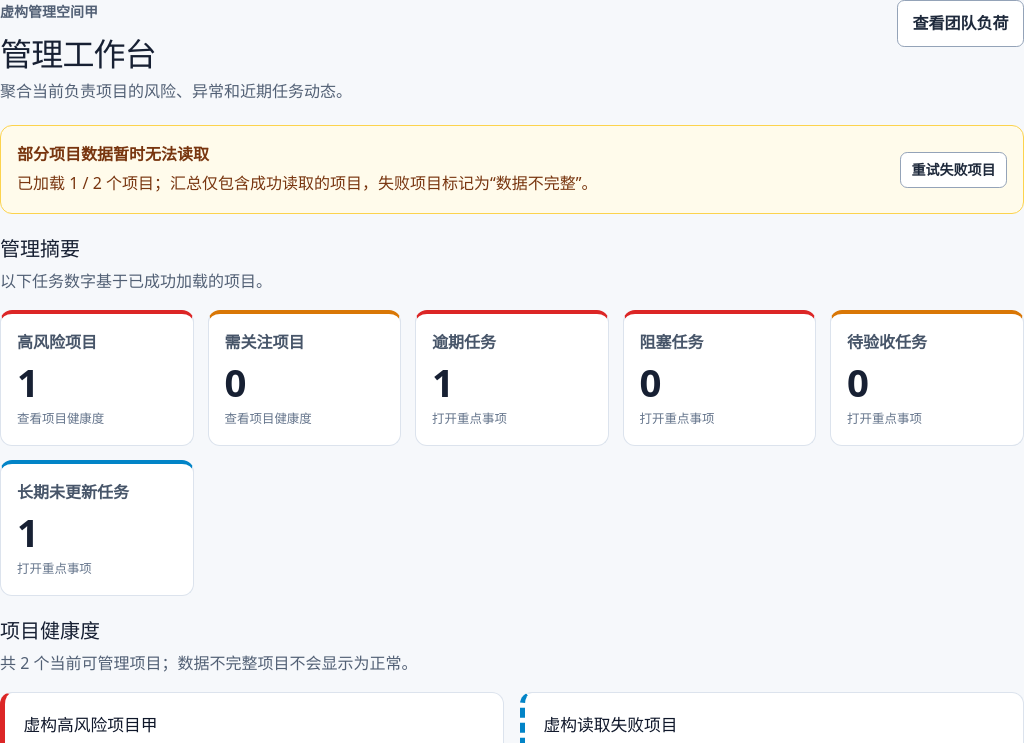
Test: 管理者工作台页面 › partial failure 不清空成功项目，失败项目 unknown，重试仅恢复失败项目
Expected: the text "部分项目数据暂时无法读取" is shown, left=17, top=143, right=209, bottom=165
Expected: the text "已加载 1 / 2 个项目；汇总仅包含成功读取的项目，失败项目标记为“数据不完整”。" is shown, left=17, top=171, right=598, bottom=197
Click the button "重试失败项目". click: (954,170)
box: left=900, top=152, right=1007, bottom=188
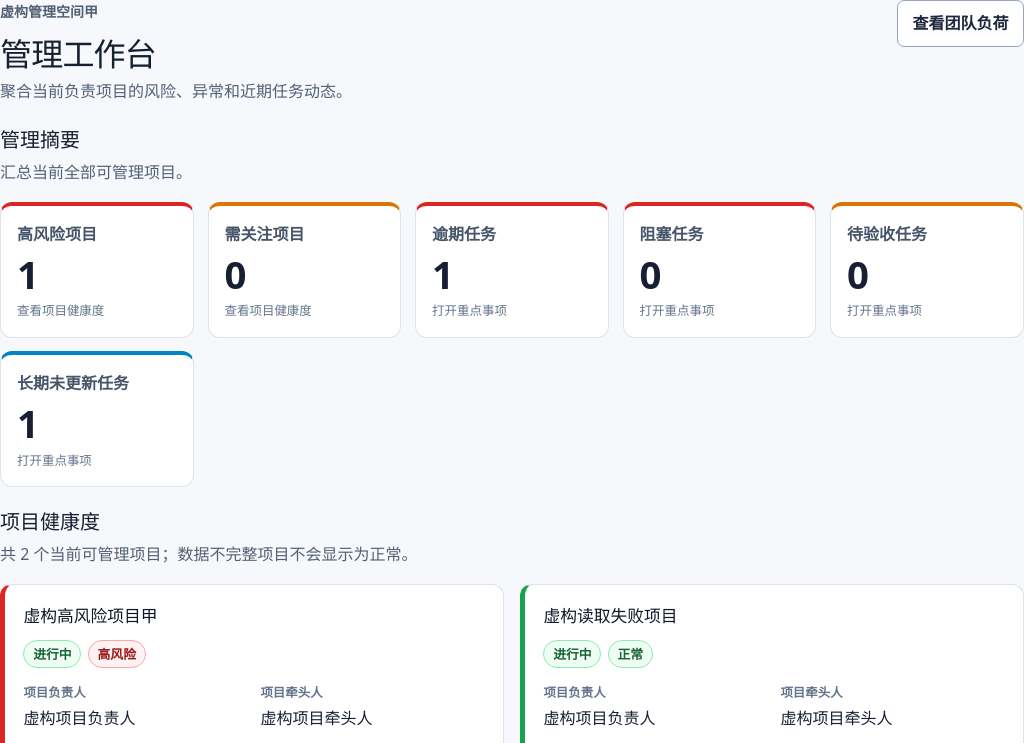
Expected: the link "虚构高风险项目甲" is shown, left=23, top=604, right=158, bottom=627
Now the text "部分项目数据暂时无法读取" is gone
